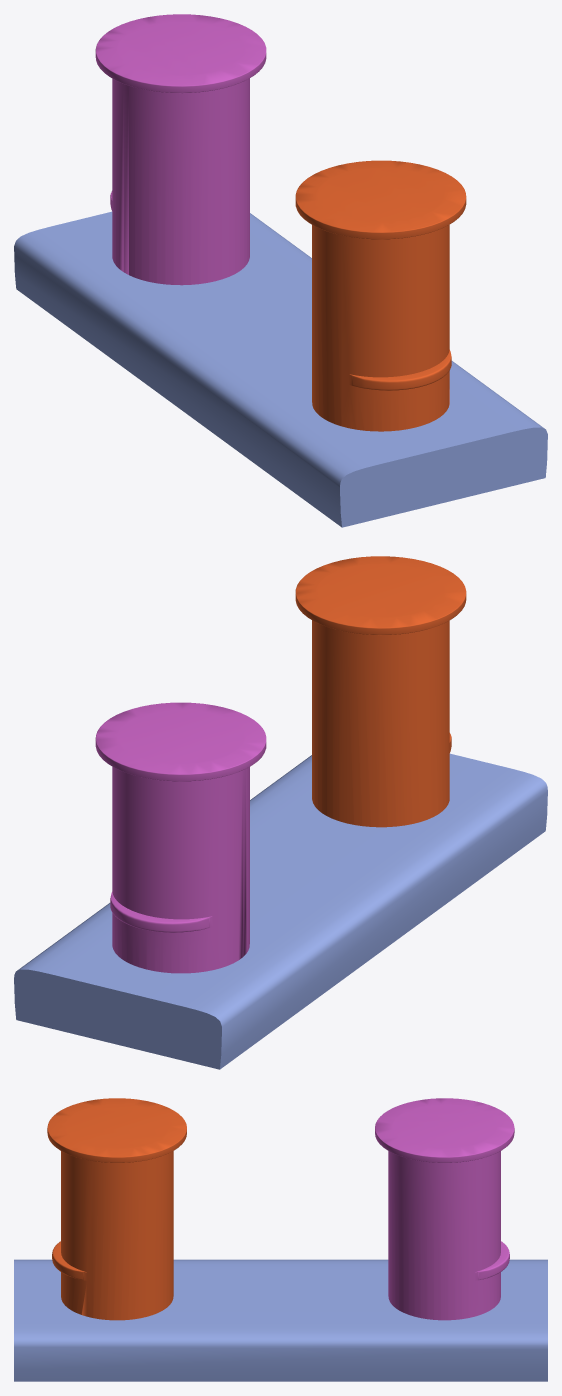
3 views of the same model, one above another, from view 1: azimuth 30°, elevation 25°; view 2: azimuth 150°, elevation 25°; view 3: azimuth 270°, elevation 25° (orthographic). The views are drawn at different scales.
Visible parts, largest first — view 1: Object_2, Object_2.003, Object_2.004; view 2: Object_2, Object_2.003, Object_2.004; view 3: Object_2, Object_2.003, Object_2.004.
Part boxes in pixels (left/top/right/bottom): Object_2: left=14, top=211, right=547, bottom=527; Object_2.003: left=295, top=160, right=466, bottom=431; Object_2.004: left=95, top=14, right=266, bottom=285; Object_2: left=14, top=753, right=547, bottom=1069; Object_2.003: left=295, top=556, right=466, bottom=827; Object_2.004: left=95, top=702, right=266, bottom=973; Object_2: left=14, top=1259, right=547, bottom=1381; Object_2.003: left=47, top=1098, right=186, bottom=1320; Object_2.004: left=375, top=1098, right=514, bottom=1320.
Bounding box in the file's own units: 0.3688 × 0.4434 × 1.
